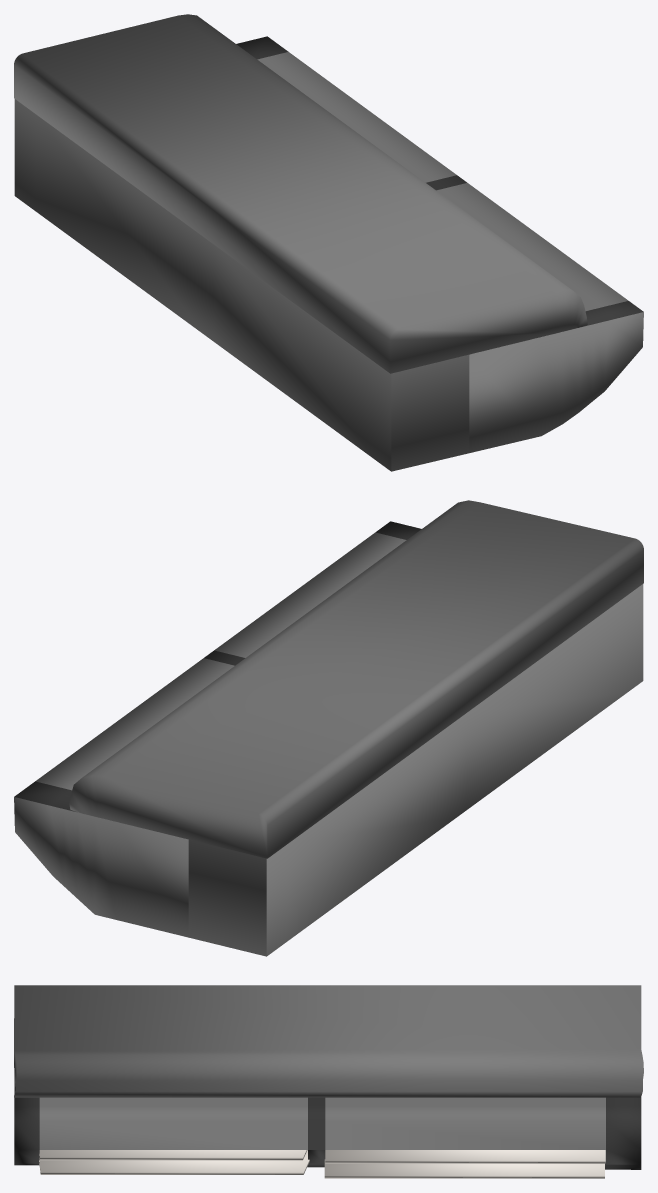
File: AireAcondicionado_GastonE_46878341.fbx
The picture shows the model from 3 angles, top to bottom: view 1: azimuth 30°, elevation 25°; view 2: azimuth 150°, elevation 25°; view 3: azimuth 270°, elevation 25°; orthographic projection. The views are drawn at different scales.
Visible parts, largest first — view 1: Aire Acondicionado; view 2: Aire Acondicionado; view 3: Aire Acondicionado.
Boxes of the visible parts, x1,y1,x2,y2 form: Aire Acondicionado: (14,14,643,471); Aire Acondicionado: (14,500,643,956); Aire Acondicionado: (14,985,643,1178).
Bounding box in the file's own units: 63.19 × 33.26 × 161.
2 materials, 1 textured.
